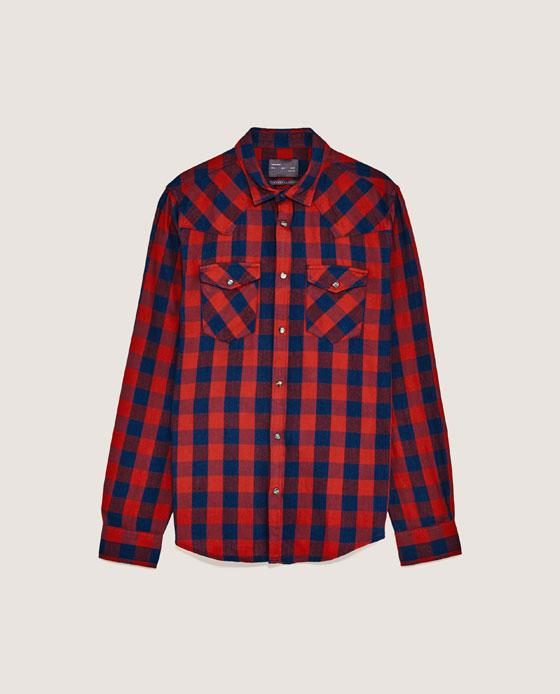teeshirt: (85, 123, 475, 575)
